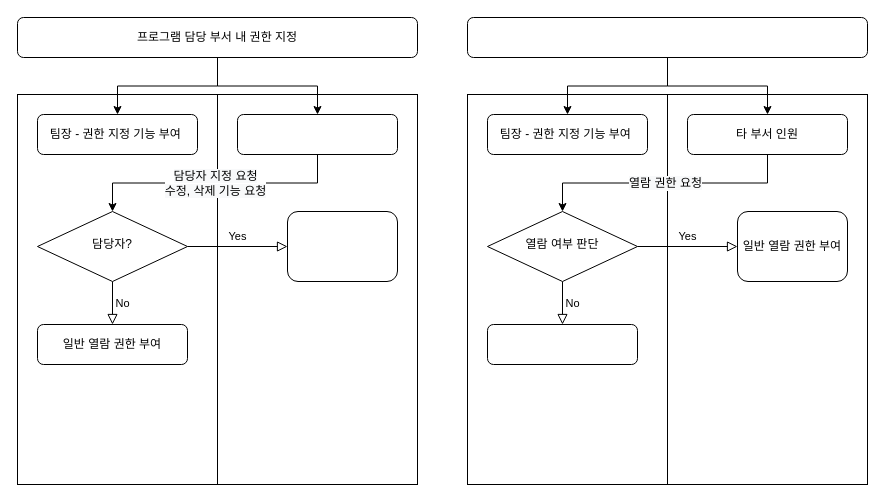
The diagram is 885 pixels wide and 502 high, and some of its shapes have lost their labels. Here are the shapes that lost their labels. From the top down, the box of each, then its label:
(466, 16, 868, 58): 타 부서 열람 권한 요청
(236, 114, 398, 154): 팀원
(286, 210, 398, 282): 담당자 지정, 수정, 삭제 기능 부여
(486, 324, 638, 364): 반려
